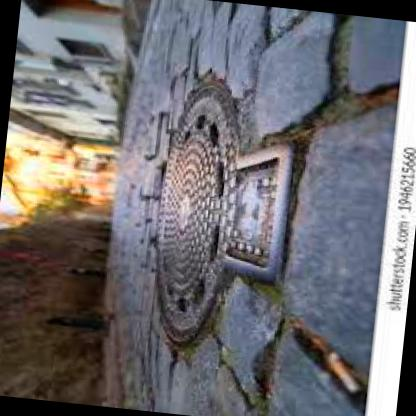manholes: (118, 58, 345, 372)
